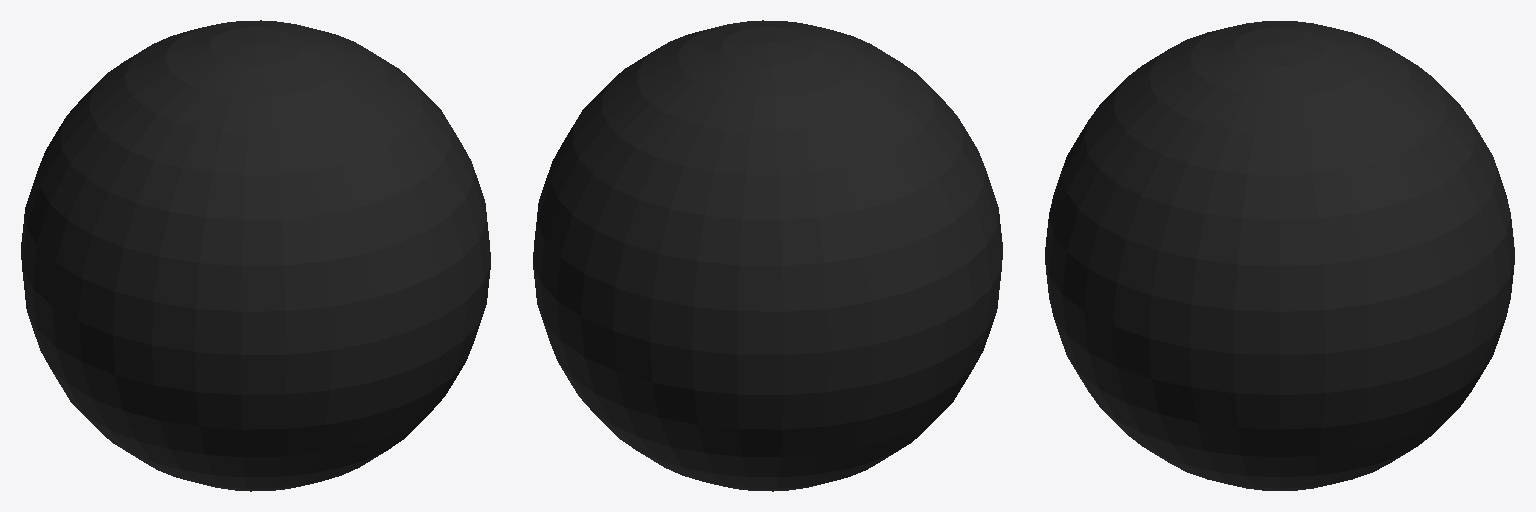
The robot description file, URDF, robot "BouncingBall":
<robot name="BouncingBall">

  <link name="ball">
    <inertial>
      <mass value="1.0" />
      <inertia iyy="0.16667" ixx="0.16667" izz="0.16667" />
    </inertial>
    <visual>
      <!--<origin xyz="0 0 0" rpy="0 0 0" />-->
      <geometry>
        <sphere radius="0.5"/>
      </geometry>
      <material name="">
        <color rgba=".2 .2 .2 1" />
      </material>
    </visual>  
    <collision>
      <!--<origin xyz="0 0 0" rpy="0 0 0" />-->
      <geometry>
        <sphere radius="0.5"/>
      </geometry>
    </collision>
  </link>
    
</robot>

--- What the picture shows (computed from the rendered views, not written in the file) ---
The picture shows the robot from 3 angles, left to right: view 1: azimuth 30°, elevation 25°; view 2: azimuth 150°, elevation 25°; view 3: azimuth 270°, elevation 25°; orthographic projection.
Robot: BouncingBall — 1 links, 0 joints (none); root link ball; default pose: all joints at 0.
Links seen in each view (by area): view 1: ball; view 2: ball; view 3: ball.
Boxes of the visible links, x1,y1,x2,y2 form: ball: (21, 20, 490, 491); ball: (533, 20, 1002, 491); ball: (1045, 21, 1514, 490).
Bounding box of the posed robot: 1 × 1 × 1 m (x, y, z).
Geometry: primitives only (box / cylinder / sphere), no mesh files.